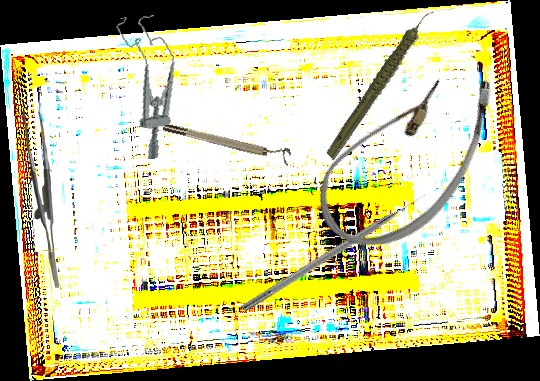Cannula: (298, 34, 519, 276)
Fixation Ring: (161, 115, 293, 167)
Handpiece: (300, 7, 464, 162)
Hook Surgical: (240, 190, 429, 315)
Speculum: (115, 10, 189, 162)
Tissue Forceps: (23, 110, 59, 288)
